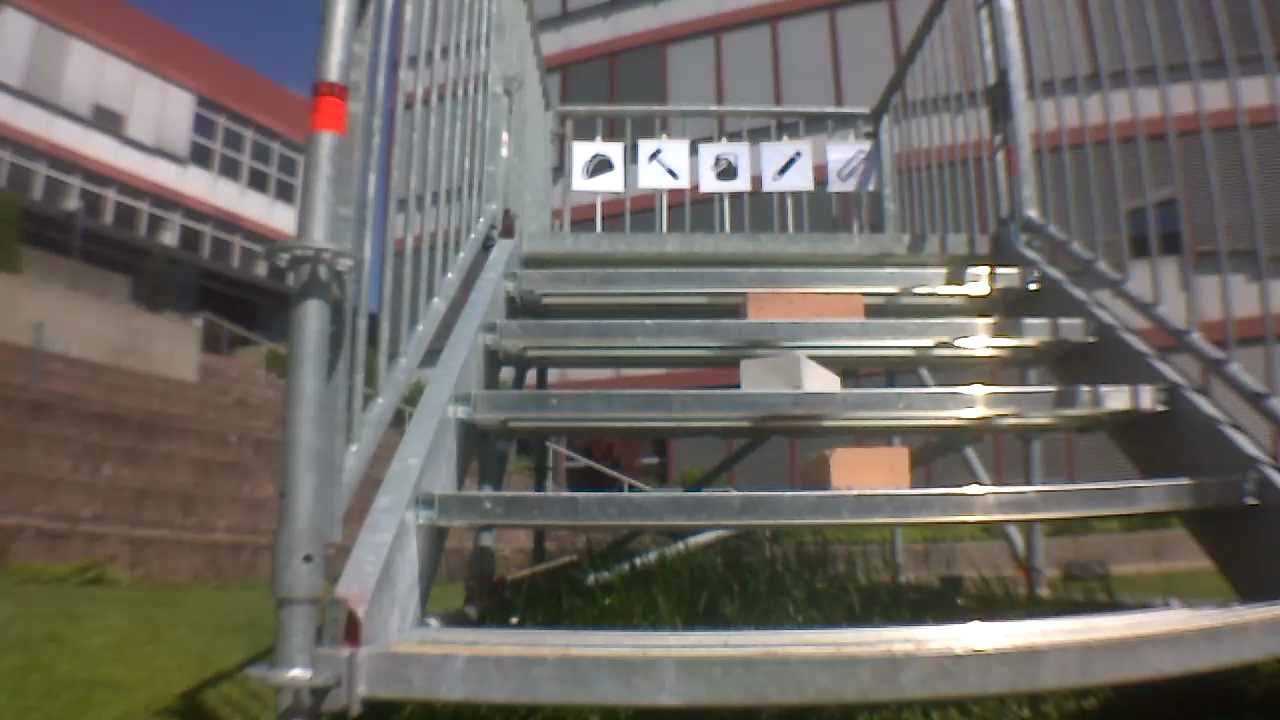brick: (731, 352, 836, 399), (824, 443, 910, 493), (745, 294, 868, 322)
edge: (363, 595, 1280, 698), (414, 478, 1269, 522), (453, 385, 1174, 422), (477, 316, 1102, 353), (502, 266, 1049, 300), (514, 231, 1006, 258)
stairs: (275, 0, 1280, 710)
steps: (323, 229, 1280, 701)
